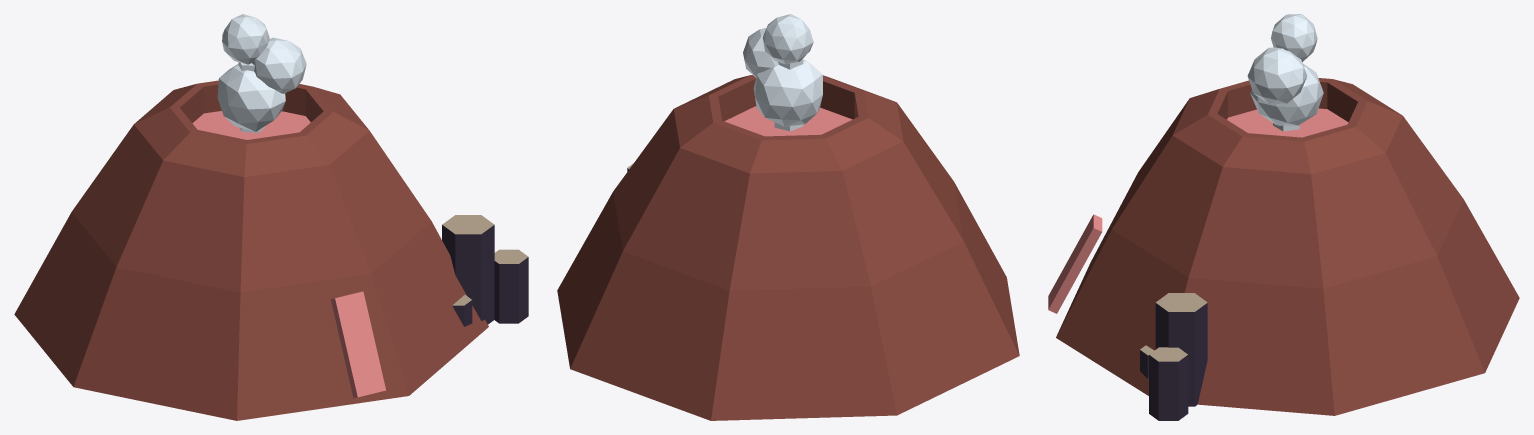
The model's file is caldera-rim.glb.
3 views of the same model, side by side, from view 1: azimuth 30°, elevation 25°; view 2: azimuth 150°, elevation 25°; view 3: azimuth 270°, elevation 25° (orthographic). The views are drawn at different scales.
Parts seen in each view (by area): view 1: volcanic-caldera-rim; view 2: volcanic-caldera-rim; view 3: volcanic-caldera-rim.
Boxes of the visible parts, box(x1,y1,x2,y2) form: volcanic-caldera-rim: box(14, 14, 528, 420); volcanic-caldera-rim: box(557, 14, 1019, 420); volcanic-caldera-rim: box(1048, 14, 1519, 420).
Size of the model in its own units: 2.92 by 2.03 by 2.89.
